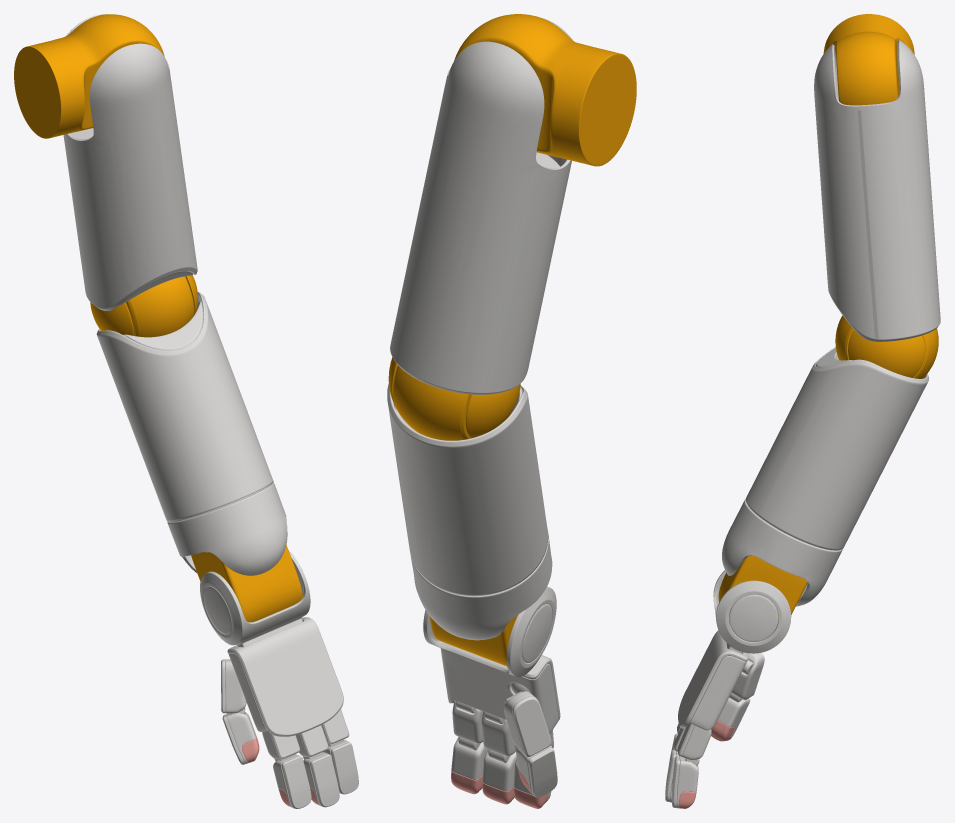
File: arm.glb
3 renders of one model, left to right at view 1: azimuth 30°, elevation 25°; view 2: azimuth 150°, elevation 25°; view 3: azimuth 270°, elevation 25°, orthographic. The views are drawn at different scales.
Visible parts, largest first — view 1: arm_bicep, arm_forearm, arm_shoulder, palm_back, arm_base, wrist, wrist_base, arm_joint, arm_forearm_upper, finger_left_02_back, finger_middle_02_back, finger_right_02_back (+6 smaller); view 2: arm_bicep, arm_forearm, arm_shoulder, arm_base, palm, arm_joint, wrist_base, arm_joint_right, finger_thumb_back, wrist, finger_thumb_02_back, wrist_detail (+7 smaller); view 3: arm_bicep, arm_forearm, arm_shoulder, arm_base, wrist_base, arm_joint_left, wrist, palm_back, wrist_detail, palm, arm_joint, finger_thumb (+3 smaller).
Boxes of the visible parts, box(x1,y1,x2,y2) form: arm_bicep: box(63, 14, 197, 310); arm_forearm: box(96, 292, 273, 521); arm_shoulder: box(14, 14, 164, 138); palm_back: box(227, 617, 343, 736); arm_base: box(167, 482, 287, 575); wrist: box(191, 545, 302, 622); wrist_base: box(200, 550, 310, 647); arm_joint: box(125, 276, 194, 337); arm_forearm_upper: box(123, 301, 203, 350); finger_left_02_back: box(281, 755, 311, 808); finger_middle_02_back: box(310, 754, 339, 807); finger_right_02_back: box(331, 742, 358, 794); arm_bicep: box(390, 17, 573, 394); arm_forearm: box(387, 383, 548, 596); arm_shoulder: box(454, 14, 636, 166); arm_base: box(410, 530, 552, 640); palm: box(440, 648, 558, 733); arm_joint: box(393, 365, 471, 440); wrist_base: box(423, 586, 556, 676); arm_joint_right: box(465, 384, 520, 438); finger_thumb_back: box(512, 695, 551, 757); wrist: box(429, 615, 517, 666); finger_thumb_02_back: box(528, 747, 557, 797); wrist_detail: box(522, 604, 552, 663); arm_bicep: box(814, 40, 940, 341); arm_forearm: box(745, 347, 928, 550); arm_shoulder: box(823, 14, 914, 105); arm_base: box(722, 499, 842, 606); wrist_base: box(713, 570, 791, 653); arm_joint_left: box(848, 330, 925, 377); wrist: box(718, 534, 807, 622); palm_back: box(678, 630, 748, 728); wrist_detail: box(729, 594, 778, 641); palm: box(690, 656, 746, 730); arm_joint: box(835, 315, 938, 378); finger_thumb: box(731, 653, 762, 699).
Size of the model in its own units: 0.3123 by 1 by 0.3507.
